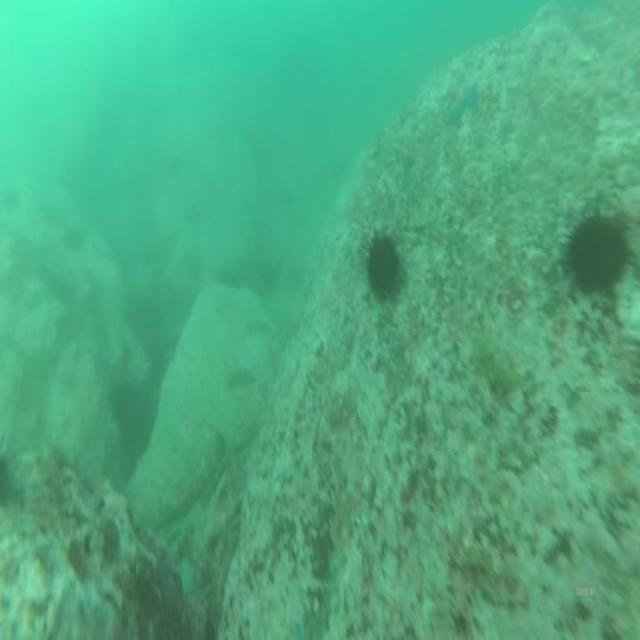echinus: (569, 218, 627, 291), (370, 237, 401, 294)
holothurian: (472, 334, 518, 394)
starfish: (450, 84, 476, 123)
